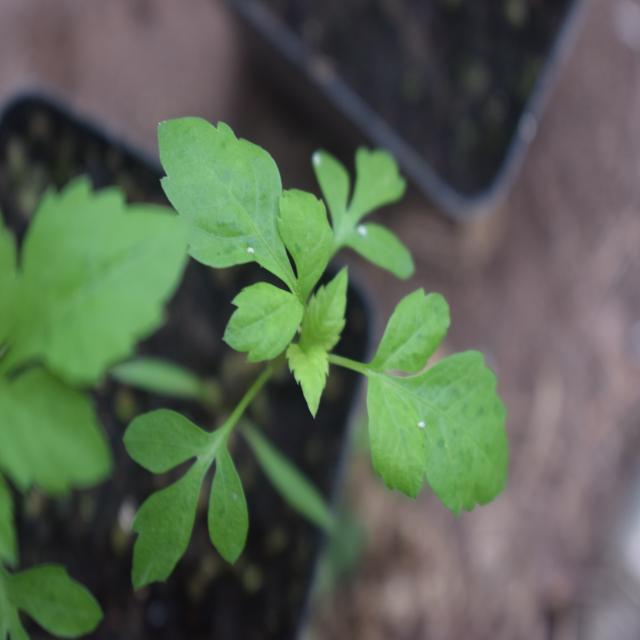Bidens pilosa: (128, 104, 503, 558)
